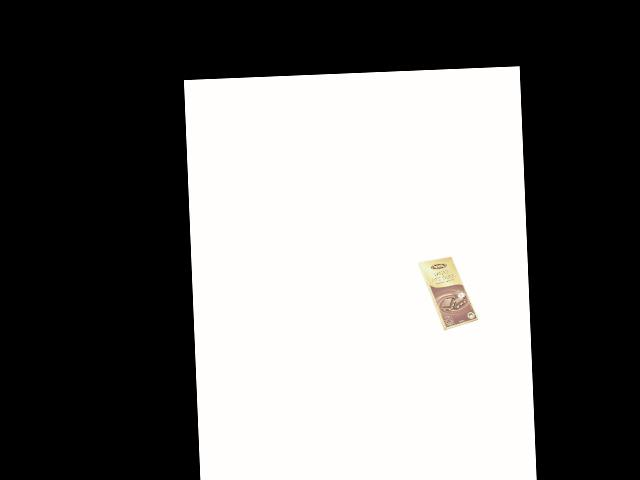chocolate: (415, 255, 479, 338)
